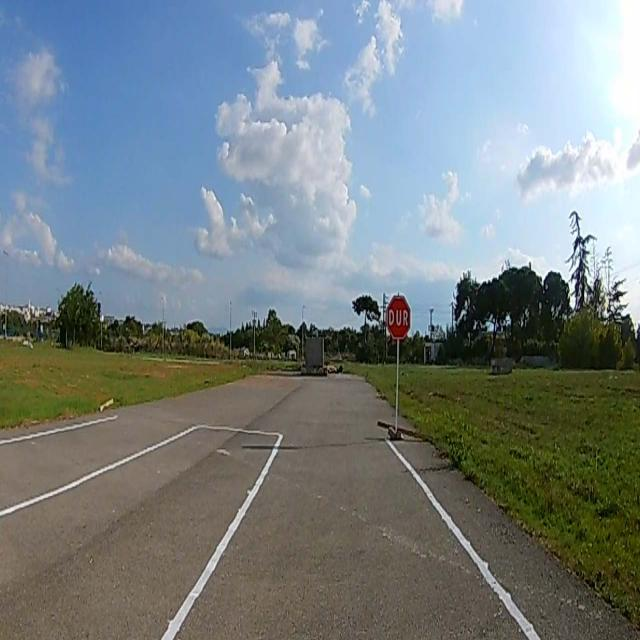dur: (386, 296, 412, 340)
